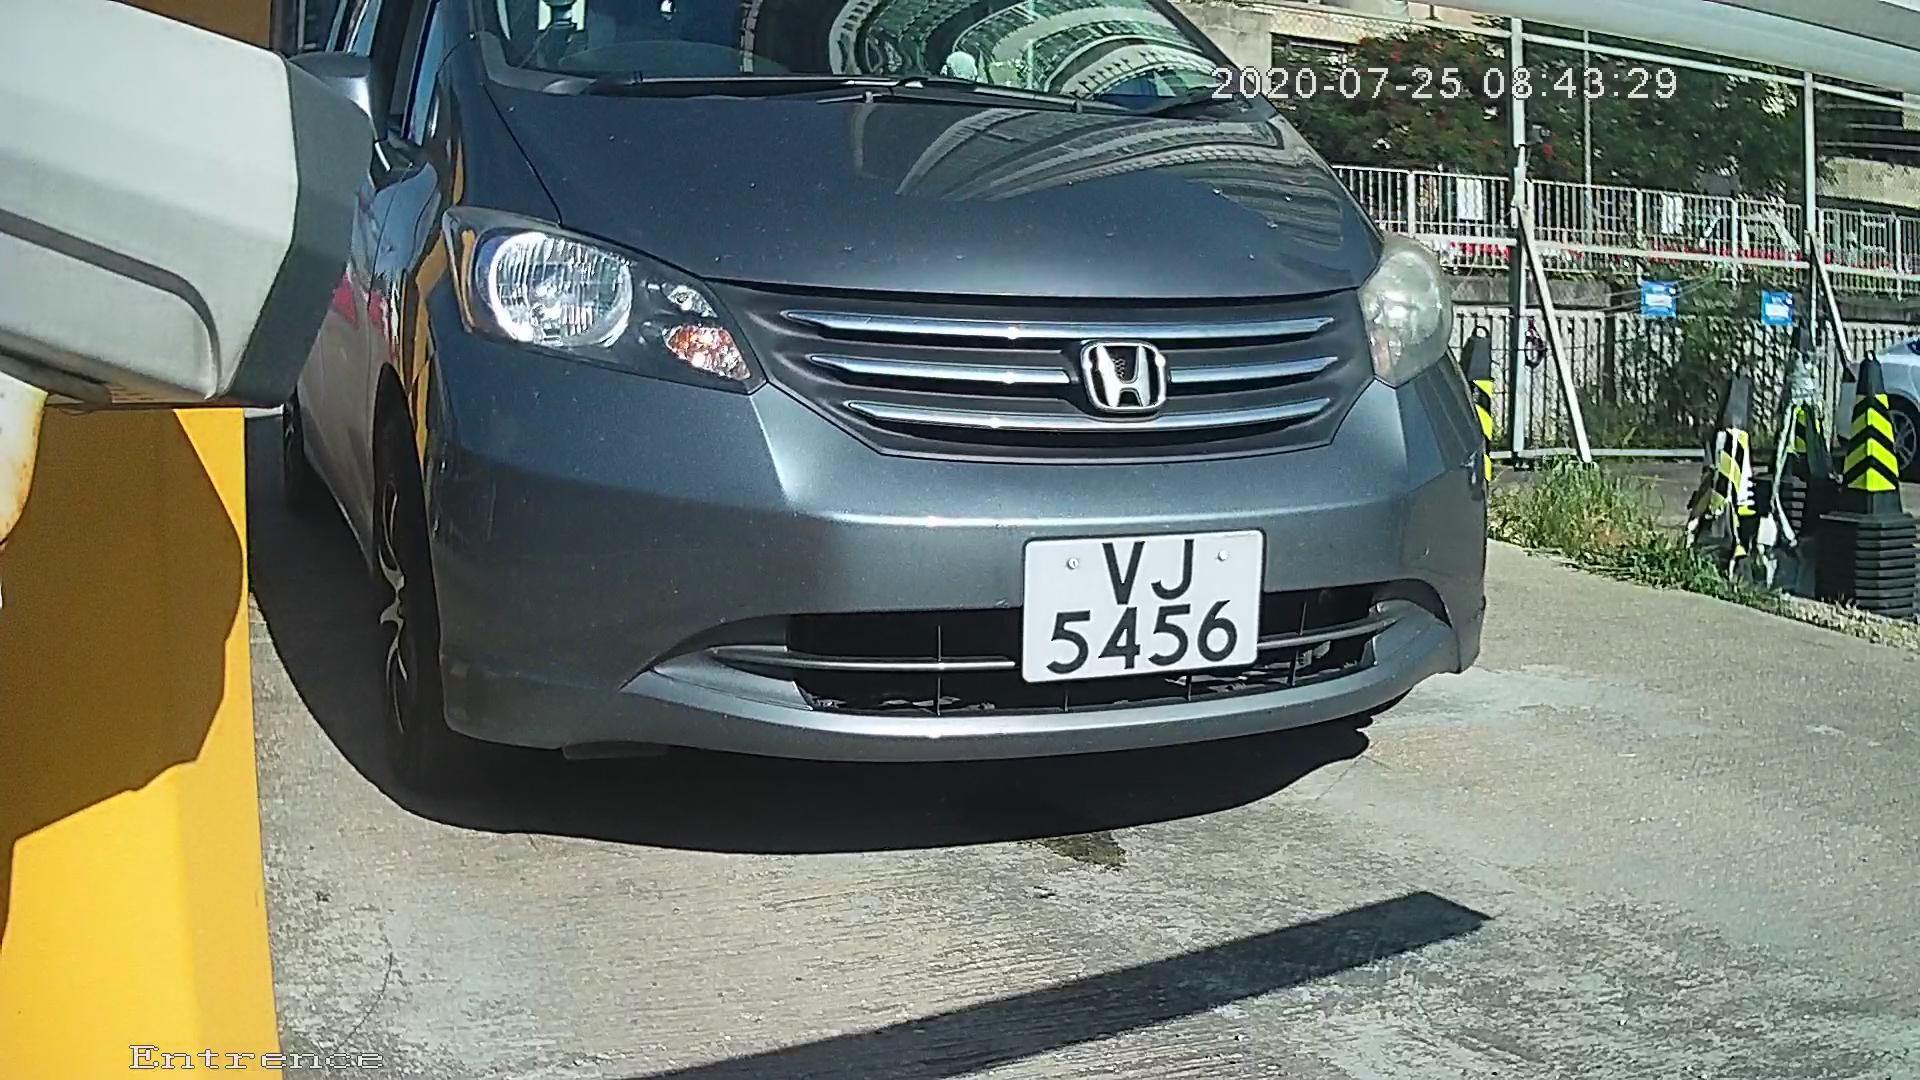License Plate: (1003, 516, 1278, 704)
